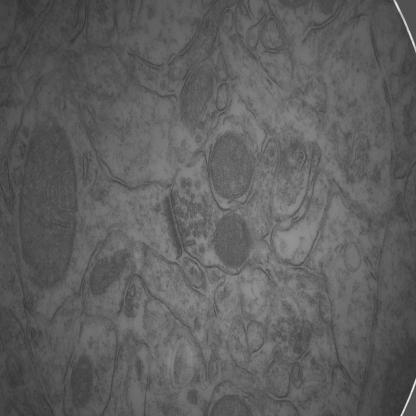mitochondria: (17, 112, 75, 289), (207, 132, 256, 198), (177, 64, 214, 135), (211, 212, 252, 267), (86, 248, 135, 292), (68, 352, 94, 409)
